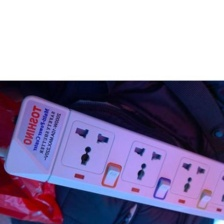three_eye_plug: (2, 92, 224, 223)
